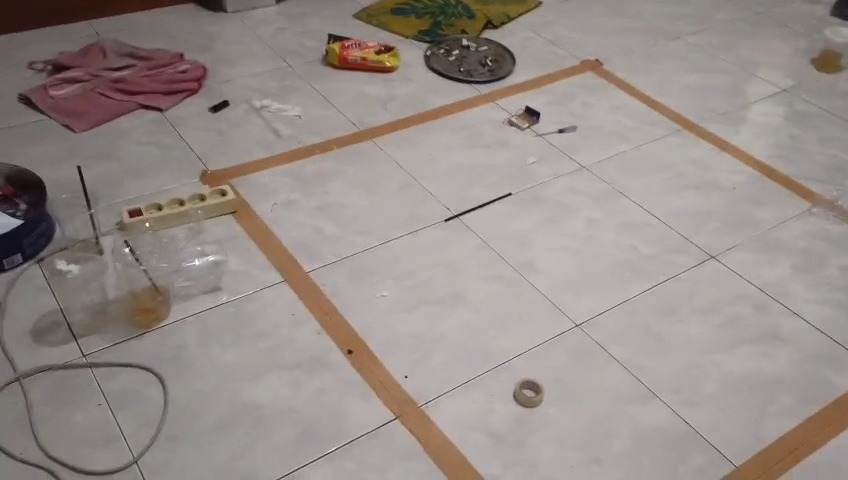floor marking: (200, 59, 847, 221), (235, 202, 480, 479), (725, 391, 847, 479)
